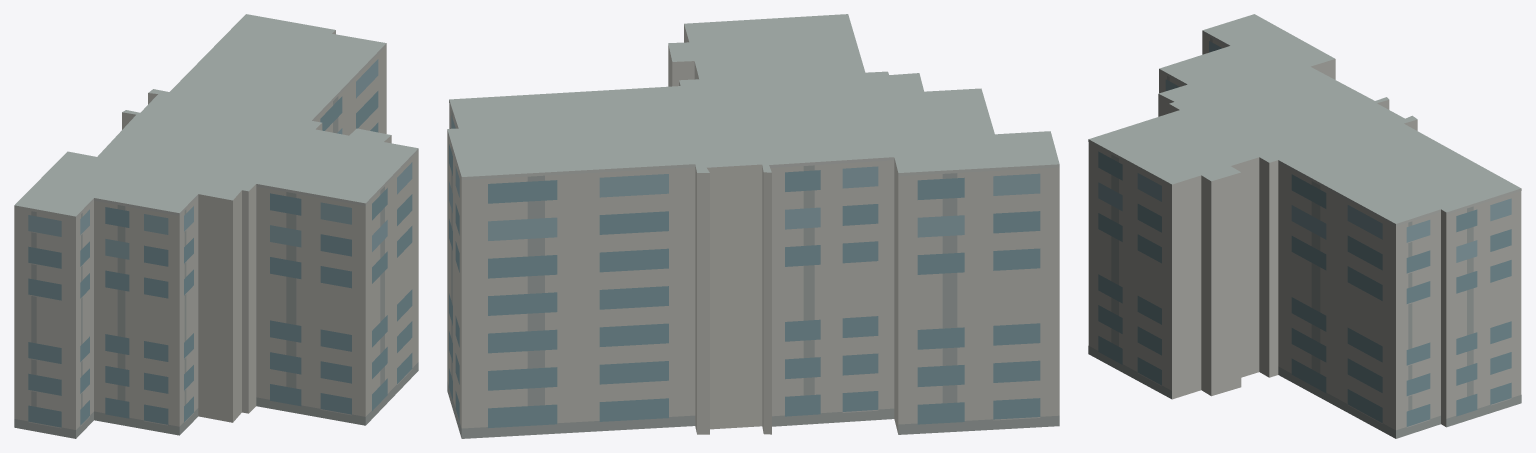
The model's file is survey-upis-33014407.glb.
The picture shows the model from 3 angles, left to right: view 1: azimuth 30°, elevation 25°; view 2: azimuth 150°, elevation 25°; view 3: azimuth 270°, elevation 25°; orthographic projection. The views are drawn at different scales.
Parts seen in each view (by area): view 1: survey-upis-33014407.tmp; view 2: survey-upis-33014407.tmp; view 3: survey-upis-33014407.tmp.
Boxes of the visible parts, box(x1,y1,x2,y2) form: survey-upis-33014407.tmp: box(14, 14, 418, 438); survey-upis-33014407.tmp: box(447, 14, 1059, 438); survey-upis-33014407.tmp: box(1088, 14, 1521, 438).
Bounding box in the file's own units: 41.51 × 19.8 × 36.16.
